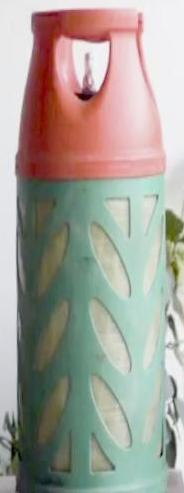cylinder: (1, 1, 184, 493)
